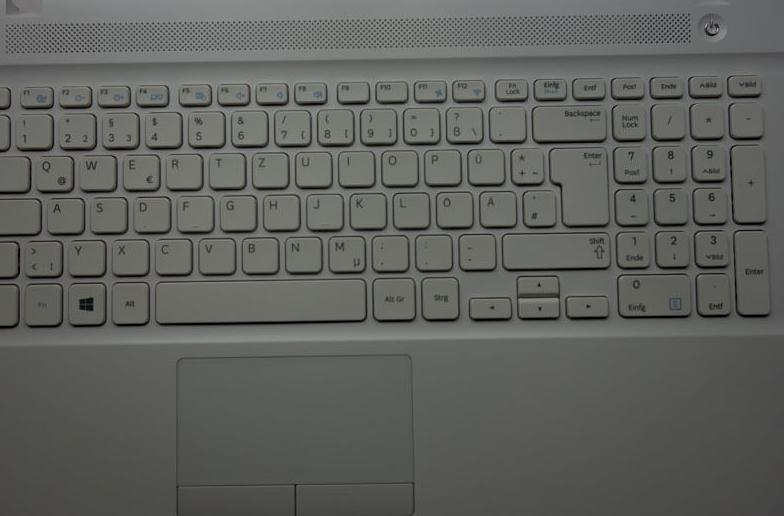0: (399, 104, 438, 142)
1: (13, 111, 51, 148)
2: (55, 110, 94, 147)
3: (99, 109, 137, 146)
4: (142, 109, 179, 146)
5: (184, 108, 222, 145)
6: (230, 110, 268, 146)
7: (271, 107, 309, 144)
8: (314, 106, 351, 143)
9: (356, 106, 395, 143)
a: (44, 195, 82, 232)
accent: (486, 103, 524, 140)
ae: (476, 188, 515, 225)
alt-left: (108, 279, 148, 324)
altgr-right: (369, 275, 414, 320)
b: (238, 234, 277, 272)
c: (152, 236, 190, 273)
caret: (1, 112, 18, 149)
comma: (368, 232, 407, 270)
d: (131, 194, 168, 231)
del: (530, 102, 606, 140)
e: (119, 151, 158, 189)
enter: (546, 144, 607, 225)
f: (174, 193, 211, 230)
g: (216, 192, 254, 230)
h: (260, 191, 297, 228)
hash: (519, 187, 554, 225)
i: (335, 147, 372, 184)
j: (303, 190, 340, 228)
k: (346, 189, 384, 227)
keyboard: (1, 54, 780, 338)
l: (390, 189, 427, 227)
less: (20, 237, 61, 276)
m: (324, 233, 364, 271)
minus: (454, 231, 494, 268)
n: (281, 234, 319, 271)
o: (378, 147, 416, 184)
oe: (432, 188, 471, 226)
p: (421, 146, 459, 183)
plus: (507, 145, 542, 182)
point: (411, 231, 451, 269)
q: (31, 152, 72, 190)
r: (163, 151, 200, 188)
s: (87, 194, 125, 232)
shift-left: (1, 239, 23, 276)
shift-lock: (1, 195, 39, 233)
shift-right: (498, 229, 609, 268)
space: (152, 276, 366, 322)
ss: (442, 103, 480, 141)
strg-left: (1, 281, 23, 326)
strg-right: (419, 274, 458, 320)
t: (205, 150, 243, 187)
tab: (1, 152, 28, 191)
u: (292, 148, 329, 186)
ue: (464, 146, 502, 183)
v: (195, 235, 233, 272)
w: (76, 151, 114, 189)
x: (109, 236, 147, 274)
y: (65, 237, 104, 275)
z: (248, 149, 286, 186)
